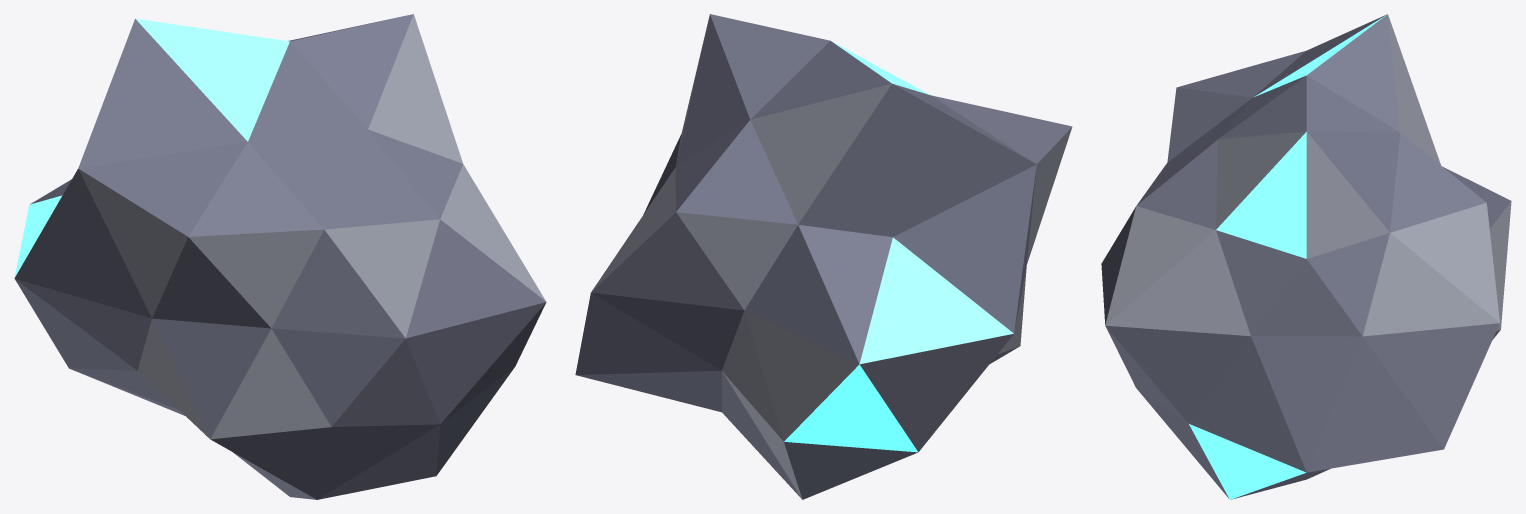
The model's file is asteroid_02.glb.
3 views of the same model, side by side, from view 1: azimuth 30°, elevation 25°; view 2: azimuth 150°, elevation 25°; view 3: azimuth 270°, elevation 25° (orthographic). The views are drawn at different scales.
Visible parts, largest first — view 1: asteroid_02; view 2: asteroid_02; view 3: asteroid_02.
Boxes of the visible parts, x1,y1,x2,y2 form: asteroid_02: (14,14,546,499); asteroid_02: (575,14,1072,499); asteroid_02: (1101,14,1511,499).
Bounding box in the file's own units: 2.13 × 2.18 × 1.94.
